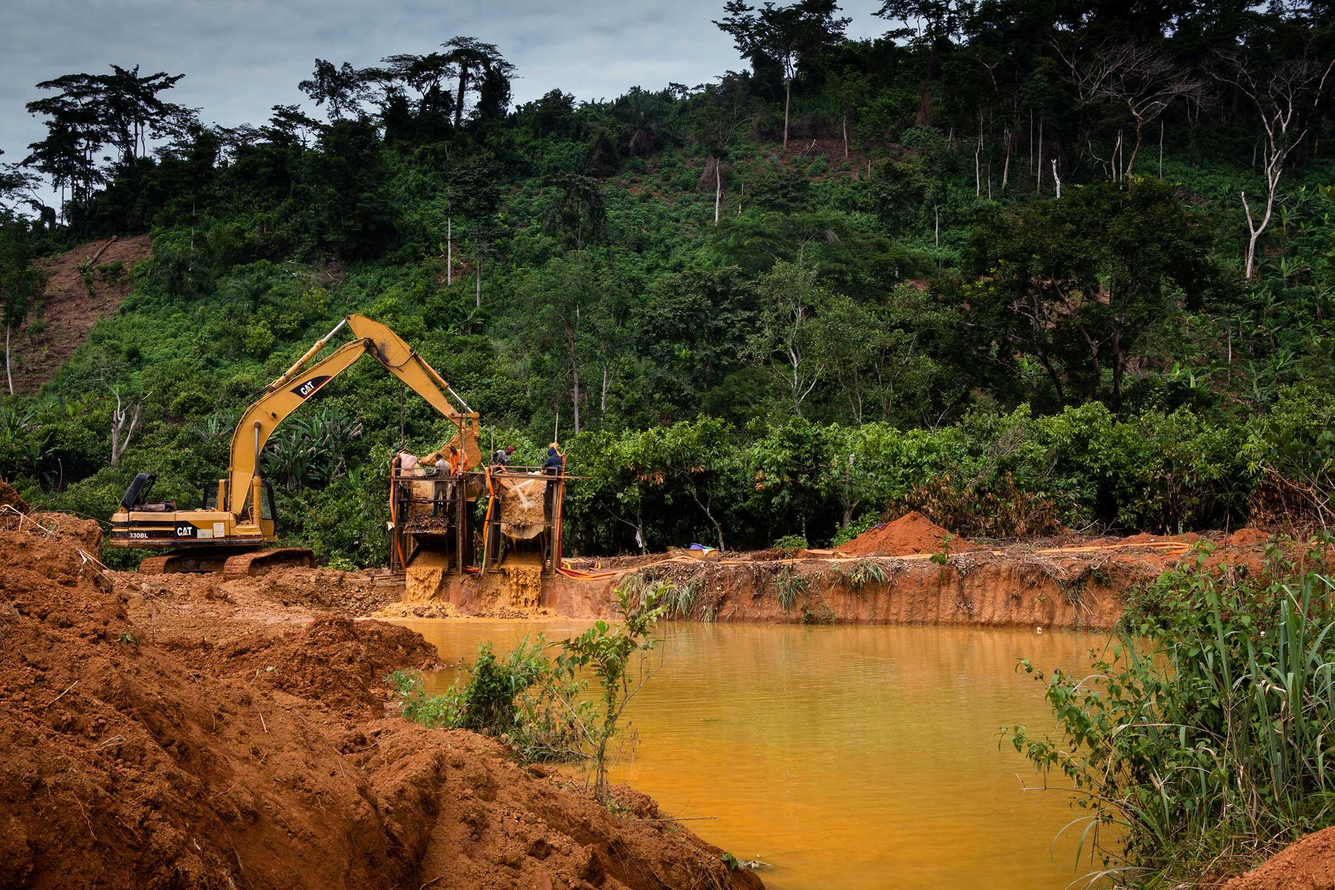ExcavationMachinery: (103, 308, 483, 581)
MiningTool: (689, 541, 704, 550)
Person: (396, 451, 419, 521), (431, 455, 450, 517), (542, 446, 563, 502), (444, 445, 469, 483), (492, 445, 516, 468)
ProcessingEquiment: (480, 464, 566, 578), (391, 468, 473, 578)
